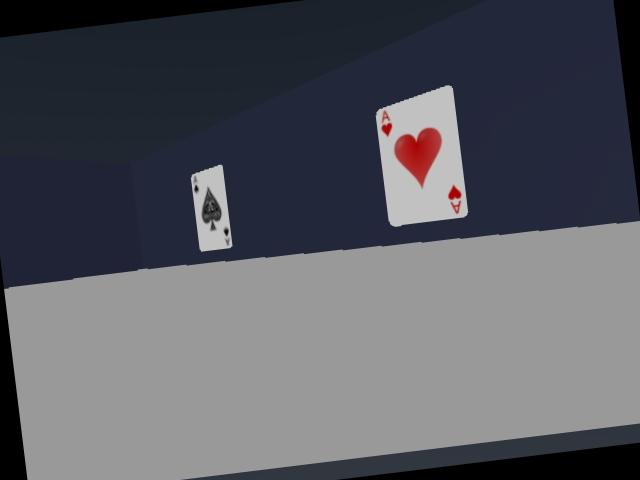heart: (376, 85, 467, 226)
spade: (191, 165, 231, 251)
